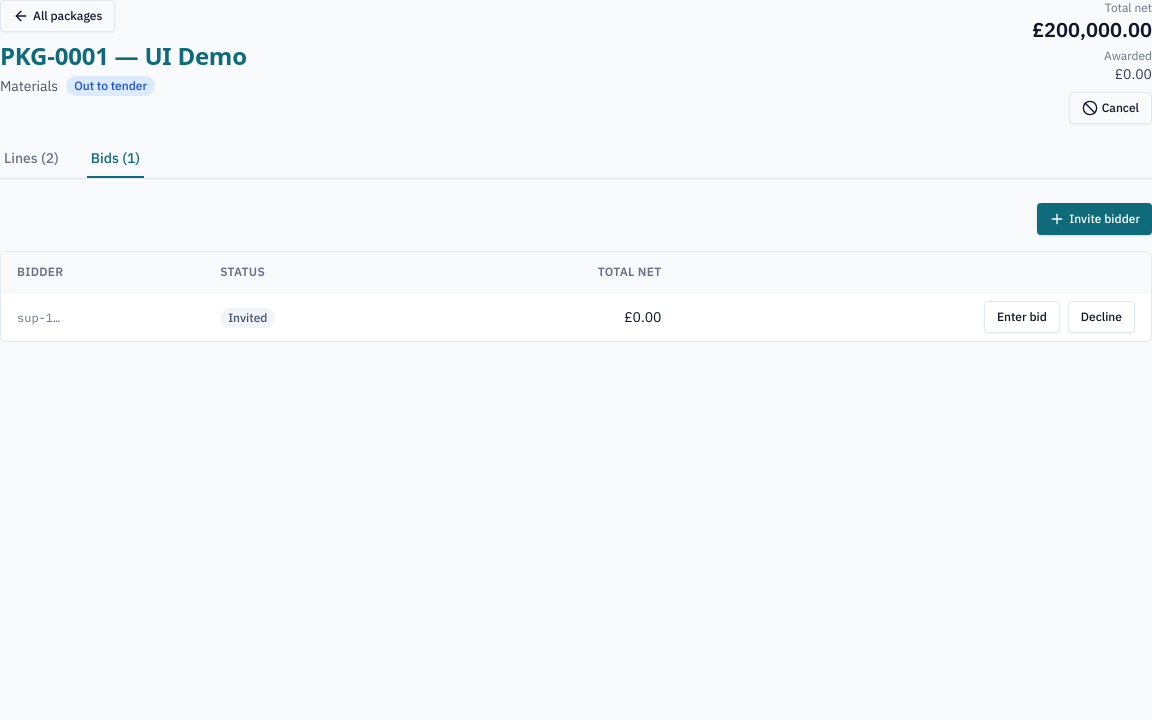
Test: bid entry preview computes net = qty × rate client-side
Click the button with test id "package-tab-bids" at (115, 163), box [87, 148, 144, 178]
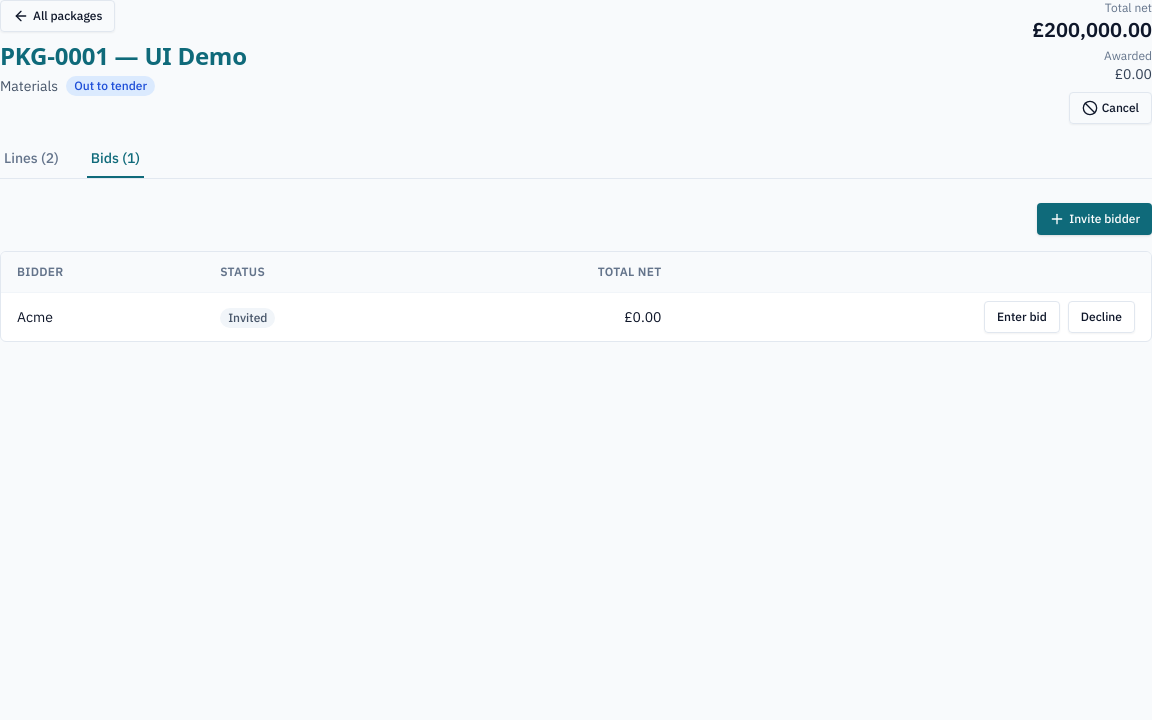
Expected: the element with test id "package-bids-tab" is shown, [0, 203, 1151, 342]
Click the button with test id "bid-enter-bid-1" at (1022, 317), box [984, 301, 1060, 333]
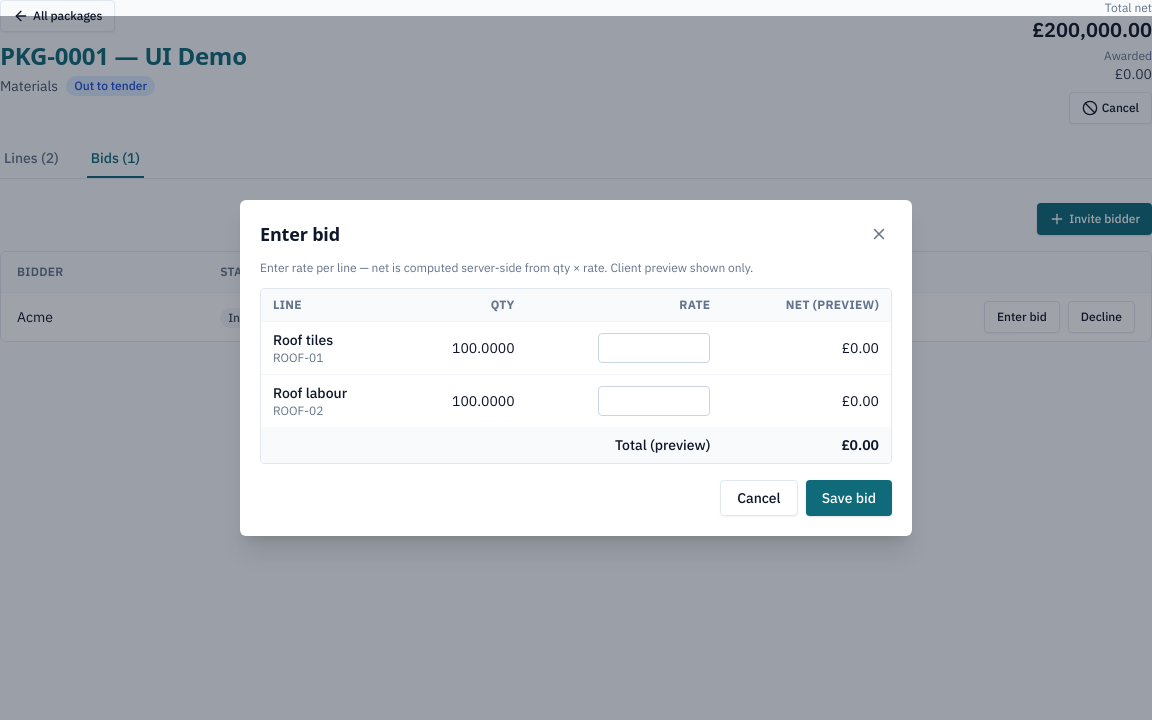
Expected: the dialog with test id "enter-bid-dialog" is shown
// Set rates per line.
Type "950" into the number field with test id "enter-bid-rate-1" at (654, 348), box [598, 333, 710, 363]
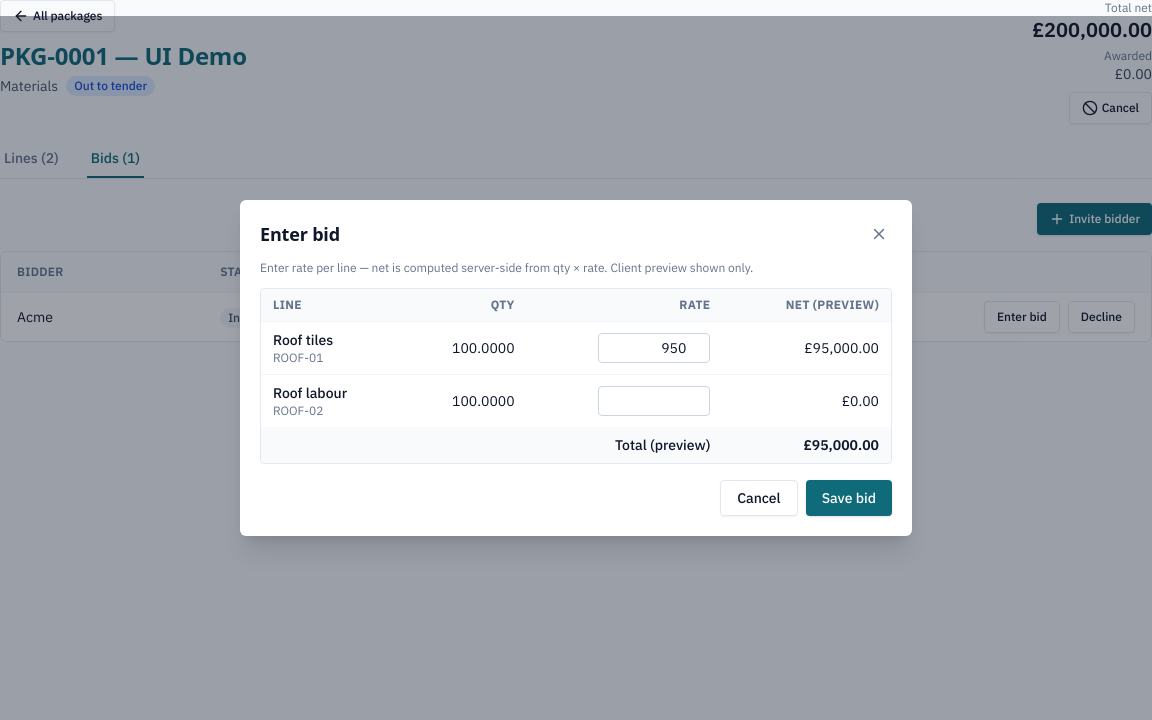
Type "1100" into the number field with test id "enter-bid-rate-2" at (654, 401), box [598, 386, 710, 416]
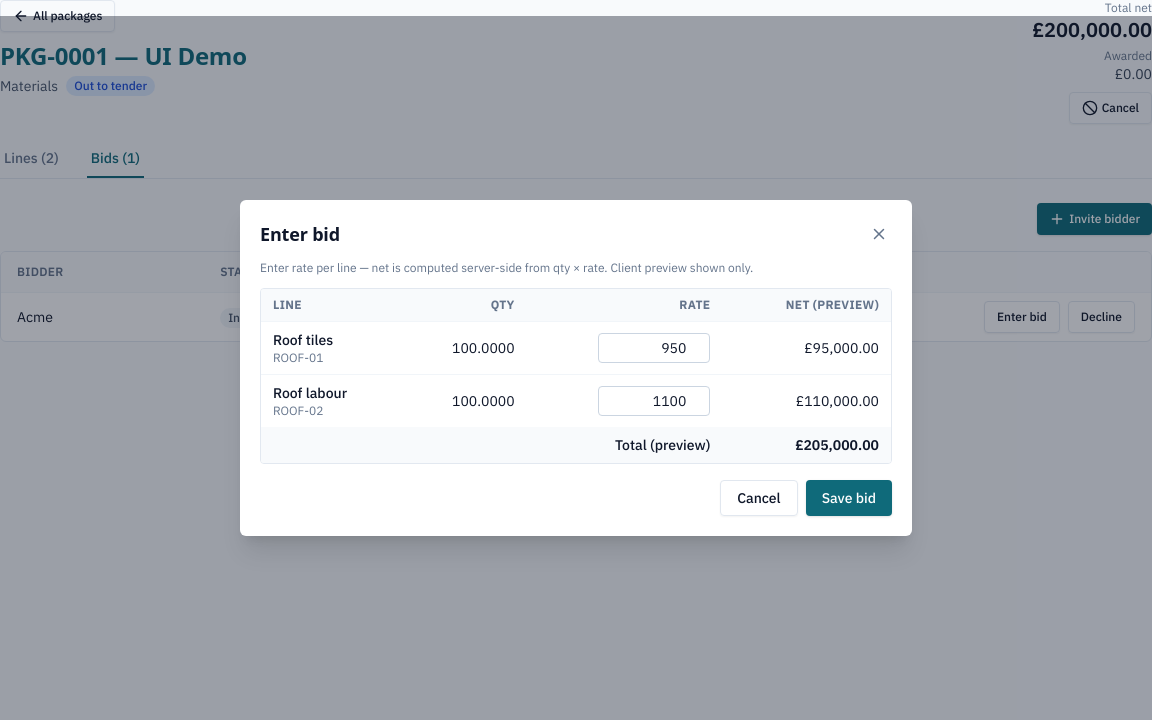
Expected: the cell with test id "enter-bid-total-preview" reads "£205,000.00", [795, 436, 879, 454]
